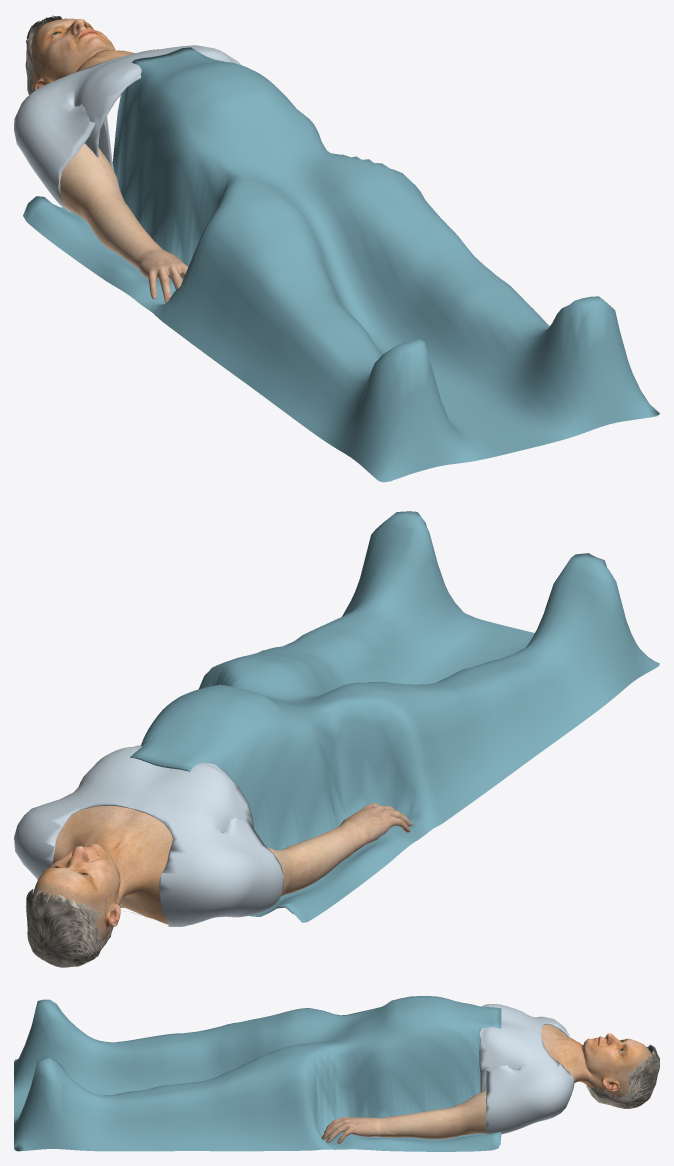
3 renders of one model, top to bottom at view 1: azimuth 30°, elevation 25°; view 2: azimuth 150°, elevation 25°; view 3: azimuth 270°, elevation 25°, orthographic. The views are drawn at different scales.
Visible parts, largest first — view 1: sheet, gown, arms, body; view 2: sheet, gown, body, arms, hair; view 3: sheet, gown, body, arms, hair.
Part boxes in pixels (x1,y1,x2,y2): sheet: (23,47,659,482); gown: (14,45,241,212); arms: (60,143,187,303); body: (30,18,135,90); sheet: (130,511,659,922); gown: (14,745,283,926); body: (33,805,172,942); arms: (267,803,412,896); hair: (26,889,113,967); sheet: (14,996,501,1151); gown: (479,1004,574,1134); body: (541,1024,652,1097); arms: (321,1090,486,1143); hair: (586,1044,659,1108).
Size of the model in its own units: 0.6427 by 0.3381 by 1.9.
8 materials, 6 textured.
